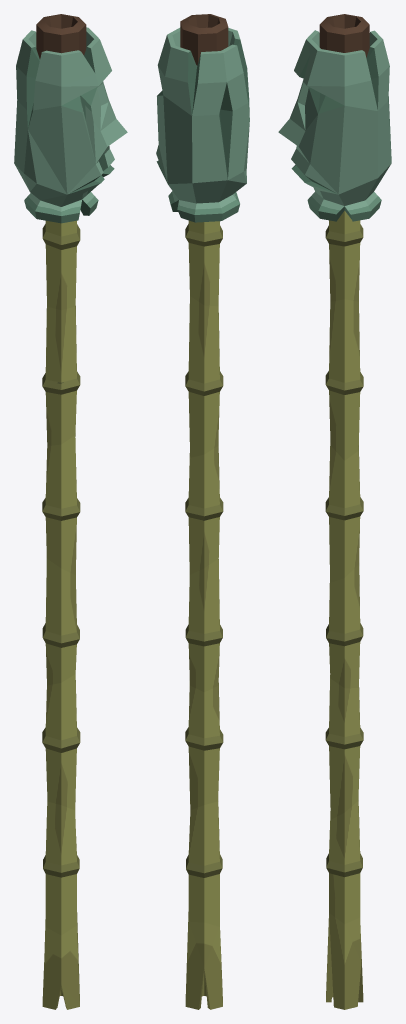
File: SM_Prop_Tiki_Torch_03.glb
The picture shows the model from 3 angles, left to right: view 1: azimuth 90°, elevation 25°; view 2: azimuth 210°, elevation 25°; view 3: azimuth 270°, elevation 25°; orthographic projection.
Visible parts, largest first — view 1: SM_Prop_Tiki_Torch_03; view 2: SM_Prop_Tiki_Torch_03; view 3: SM_Prop_Tiki_Torch_03.
Boxes of the visible parts, <box> form: SM_Prop_Tiki_Torch_03: <box>14,14,127,1009</box>; SM_Prop_Tiki_Torch_03: <box>156,14,249,1009</box>; SM_Prop_Tiki_Torch_03: <box>278,14,391,1009</box>.
Bounding box in the file's own units: 0.1895 × 2.17 × 0.2282.
1 material, 1 textured.
